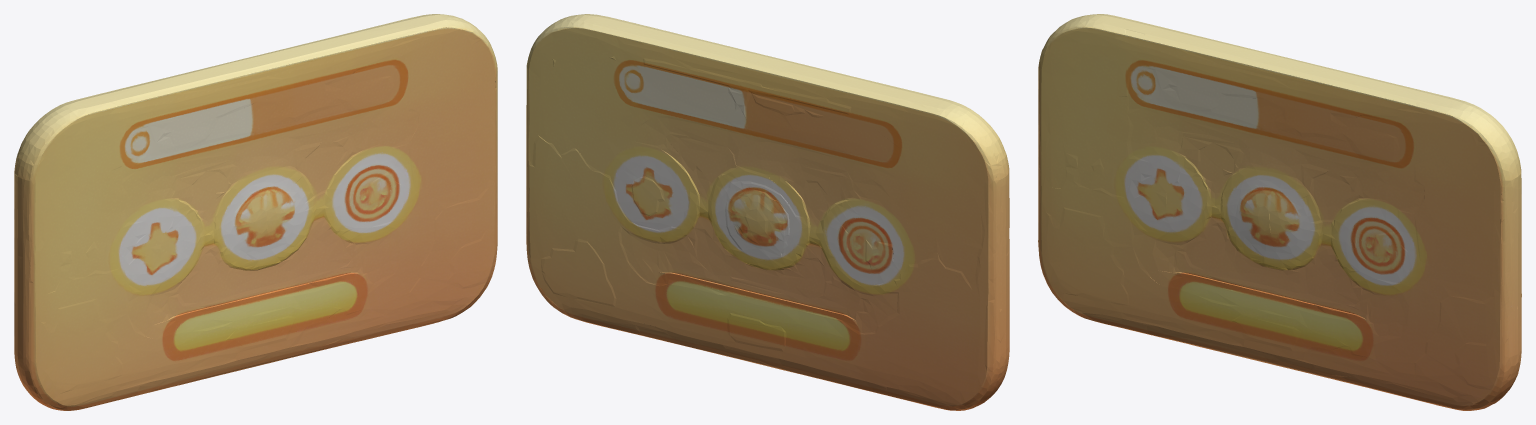
File: COMMON_사물_popup_growth_offer.glb
The picture shows the model from 3 angles, left to right: view 1: azimuth 30°, elevation 25°; view 2: azimuth 150°, elevation 25°; view 3: azimuth 330°, elevation 25°; orthographic projection.
Parts seen in each view (by area): view 1: world; view 2: world; view 3: world.
Boxes of the visible parts, x1=… form: world: x1=14, y1=14, x2=497, y2=410; world: x1=526, y1=14, x2=1009, y2=410; world: x1=1038, y1=14, x2=1521, y2=410.
Bounding box in the file's own units: 1 × 0.6064 × 0.0766.
1 material, 1 textured.
